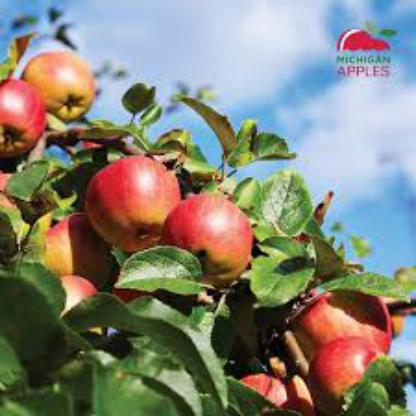apple: (78, 157, 178, 247), (164, 188, 250, 274), (284, 288, 386, 352), (294, 334, 382, 402), (21, 52, 94, 118), (35, 220, 105, 272), (36, 272, 98, 314), (0, 76, 35, 143)
